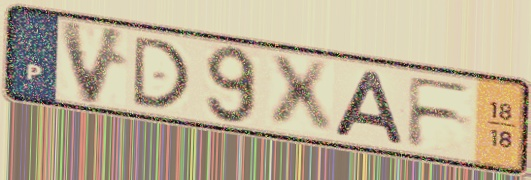9: (201, 42, 263, 127)
A: (328, 67, 409, 147)
D: (129, 33, 193, 111)
F: (405, 74, 477, 150)
V: (55, 15, 132, 109)
X: (264, 52, 337, 137)
